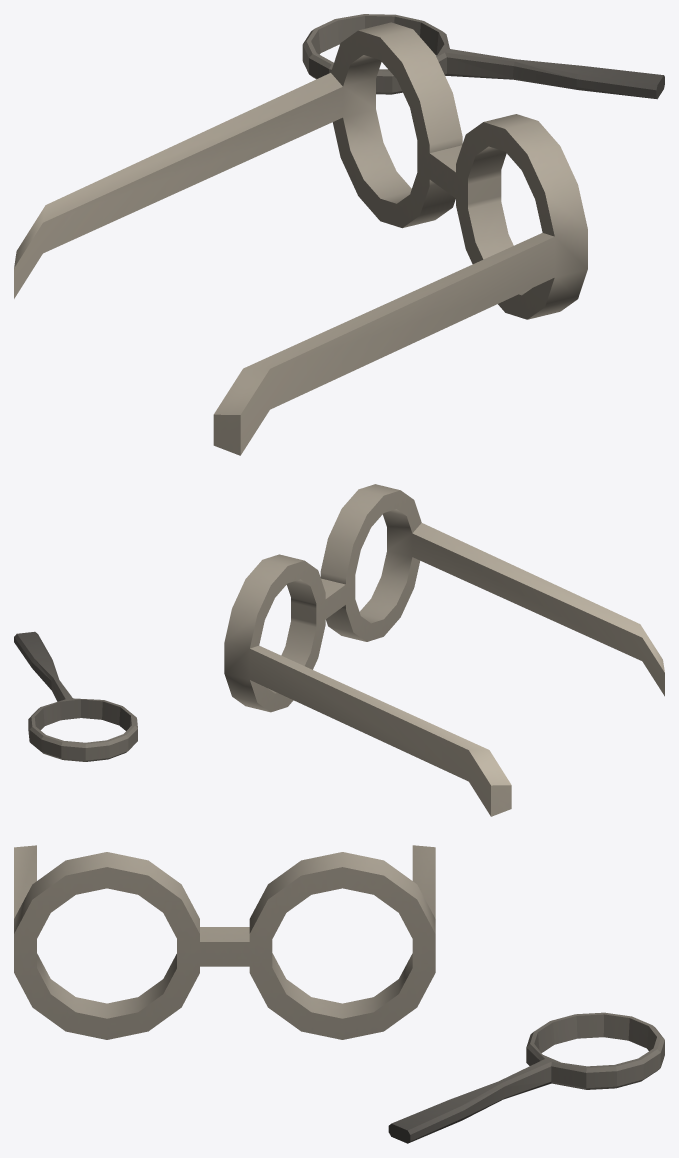
The model's file is LasitJaSilmä.fbx.
3 views of the same model, one above another, from view 1: azimuth 30°, elevation 25°; view 2: azimuth 150°, elevation 25°; view 3: azimuth 270°, elevation 25° (orthographic). The views are drawn at different scales.
Visible parts, largest first — view 1: pCylinder8, pCylinder4; view 2: pCylinder8, pCylinder4; view 3: pCylinder8, pCylinder4.
Boxes of the visible parts, x1=… form: pCylinder8: x1=14, y1=22, x2=587, y2=455; pCylinder4: x1=302, y1=14, x2=664, y2=99; pCylinder8: x1=224, y1=484, x2=664, y2=816; pCylinder4: x1=14, y1=631, x2=137, y2=761; pCylinder8: x1=14, y1=845, x2=435, y2=1039; pCylinder4: x1=388, y1=1012, x2=664, y2=1143.
Bounding box in the file's own units: 9.82 × 3.09 × 9.05.
